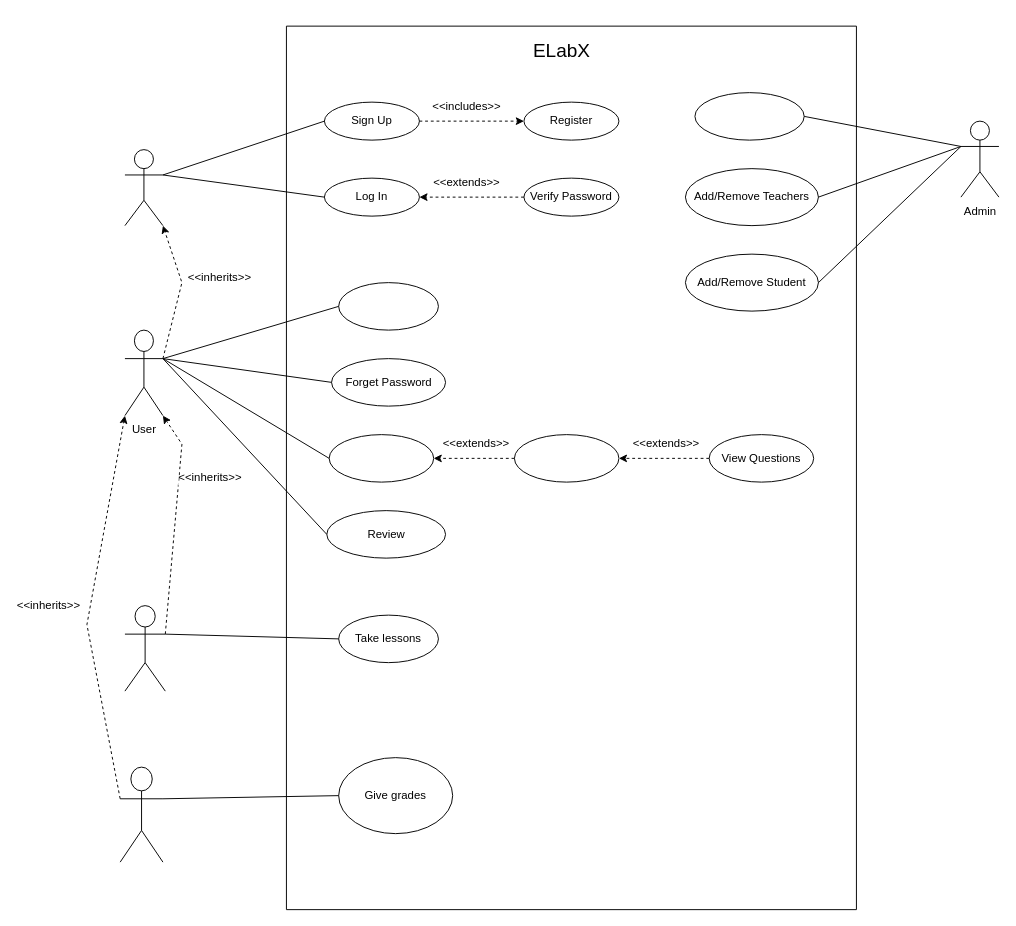
This 1016x926 diagram has some shape labels left out. The centre of each missing label's shape, as x and y in pixels:
"Edit courses" belongs at [749,116].
"Guest" belongs at [143,187].
"Student" belongs at [144,648].
"Teacher" belongs at [141,814].
"View Chapters" belongs at [566,458].
"View Courses" belongs at [381,458].
"View Profile" belongs at [388,306].
